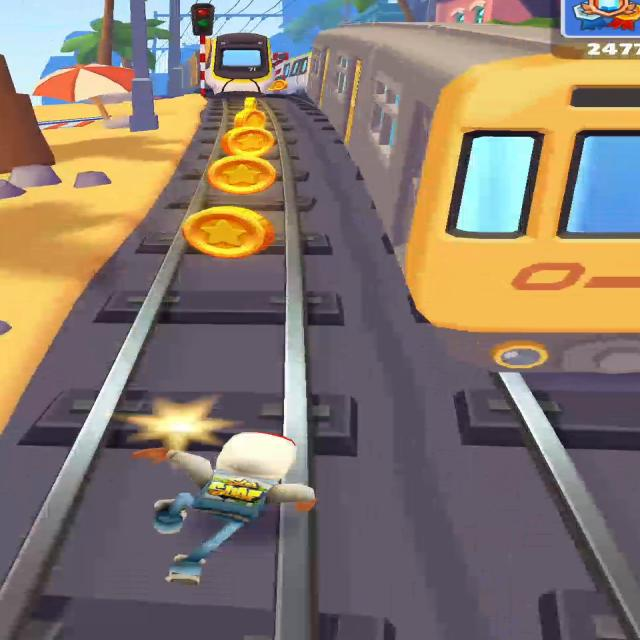train: (307, 22, 639, 375), (204, 32, 279, 95), (275, 53, 311, 94)
